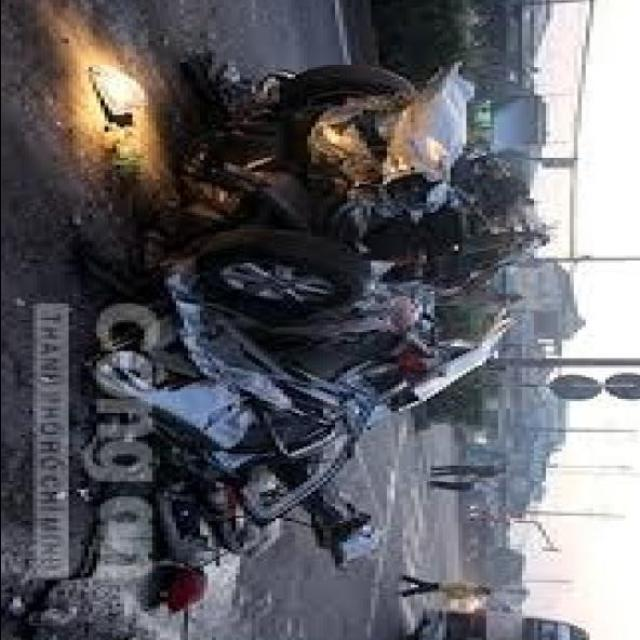accident: (84, 34, 619, 602)
